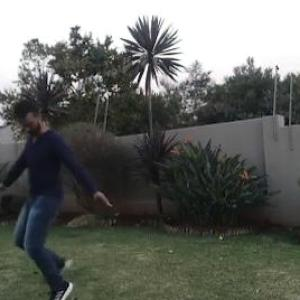land: (1, 98, 113, 299)
